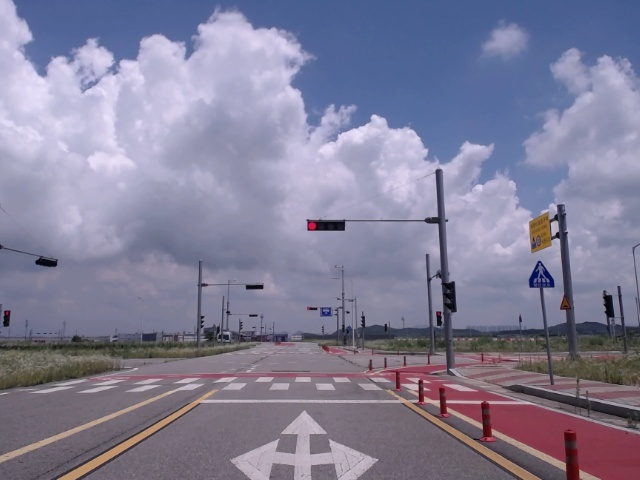red_4: (307, 219, 345, 231)
